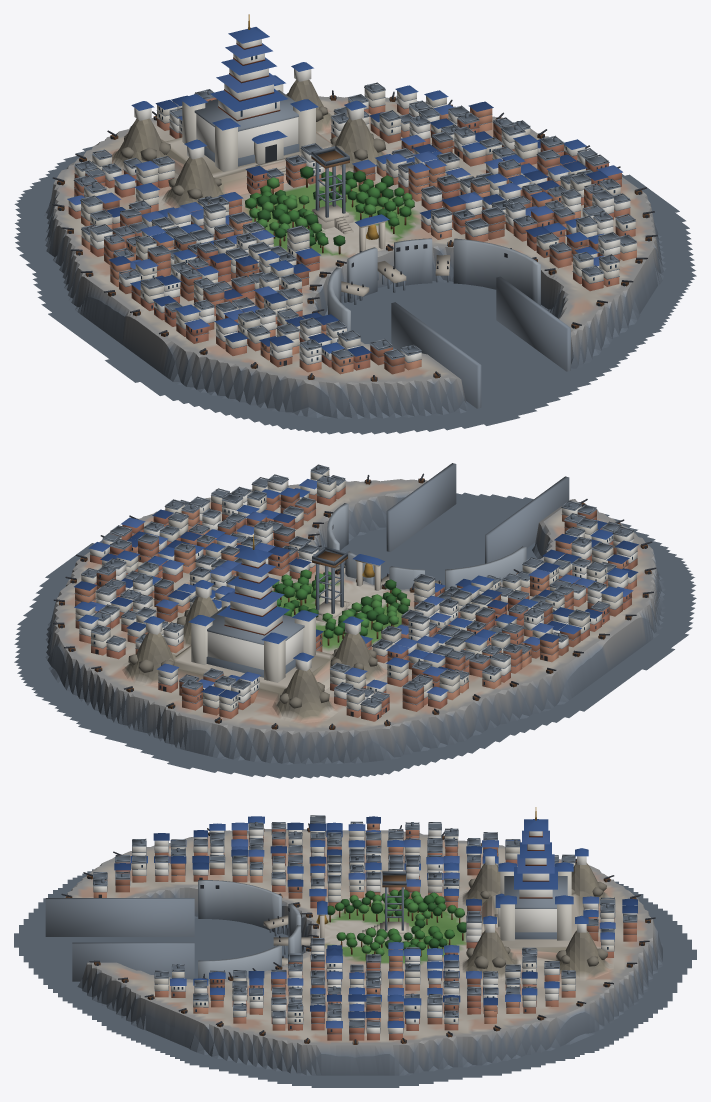
3 views of the same model, one above another, from view 1: azimuth 30°, elevation 25°; view 2: azimuth 150°, elevation 25°; view 3: azimuth 270°, elevation 25° (orthographic). The views are drawn at different scales.
Visible parts, largest first — view 1: BASE, VILLE_3, VILLE_2, VILLE_4; view 2: BASE, VILLE_3, VILLE_2, VILLE_4; view 3: BASE, VILLE_3, VILLE_4, VILLE_2.
Boxes of the visible parts, x1=… form: BASE: x1=14, y1=14, x2=696, y2=434; VILLE_3: x1=67, y1=82, x2=636, y2=374; VILLE_2: x1=90, y1=106, x2=575, y2=317; VILLE_4: x1=327, y1=238, x2=570, y2=408; BASE: x1=14, y1=473, x2=696, y2=778; VILLE_3: x1=74, y1=464, x2=638, y2=721; VILLE_2: x1=105, y1=505, x2=553, y2=706; VILLE_4: x1=327, y1=463, x2=569, y2=589; BASE: x1=14, y1=807, x2=696, y2=1087; VILLE_3: x1=93, y1=815, x2=637, y2=1040; VILLE_4: x1=45, y1=880, x2=301, y2=981; VILLE_2: x1=232, y1=832, x2=599, y2=1014.
Bounding box in the file's own units: 60 × 17.3 × 70.
